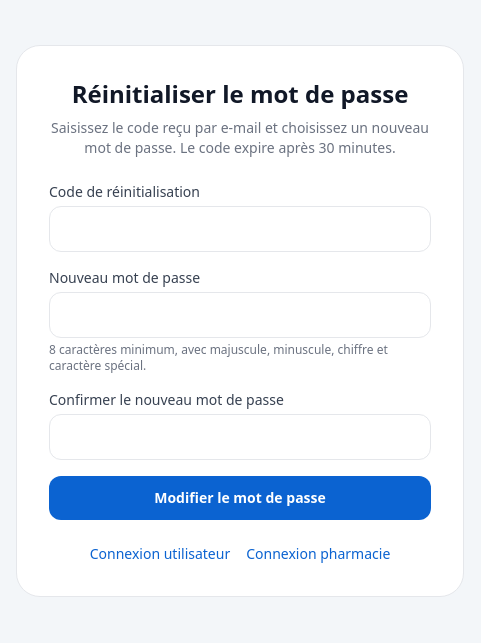
ResetPasswordPage › does not submit when the password confirmation differs
In the field labelled "Code de réinitialisation": (240, 229) [49,206,431,252], type "mail-reset-code"
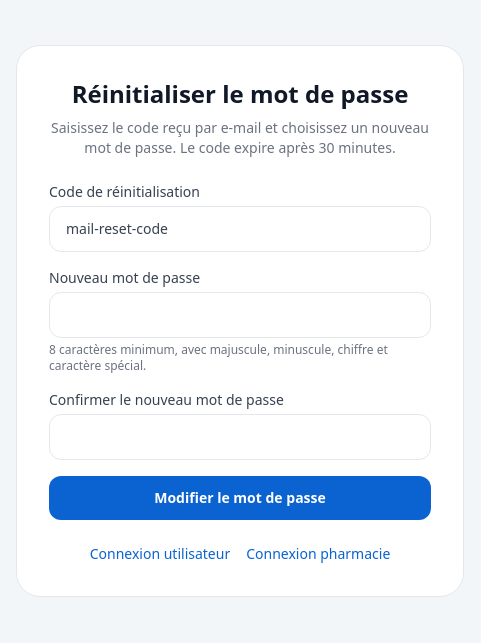
In the password field labelled "Nouveau mot de passe": (240, 315) [49,292,431,338], type "SecurePass123!"
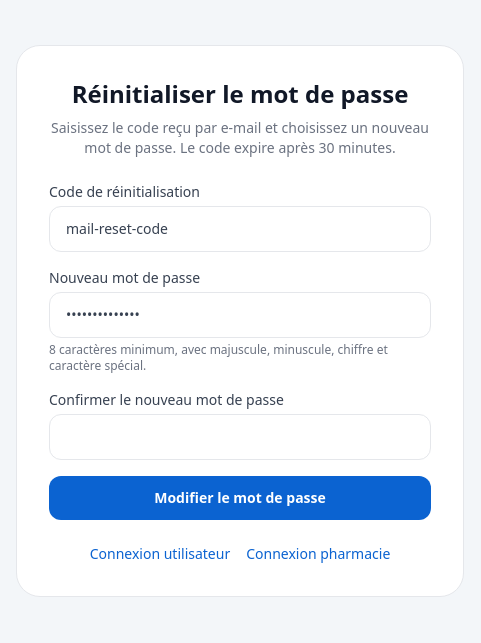
In the password field labelled "Confirmer le nouveau mot de passe": (240, 437) [49,414,431,460], type "OtherPass123!"
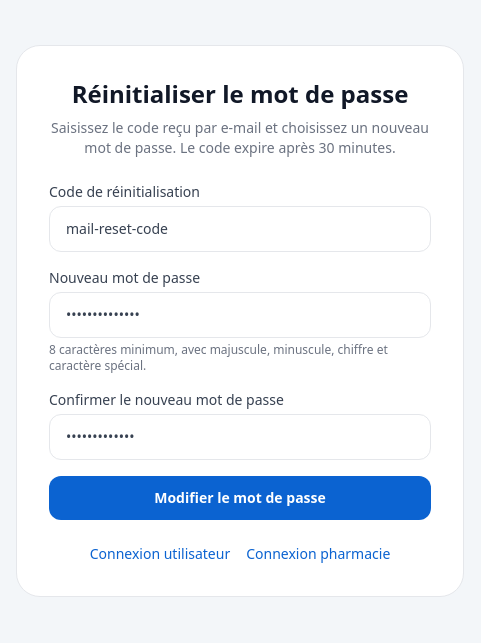
Submit the form named "Modifier le mot de passe", box [49,182,431,520]
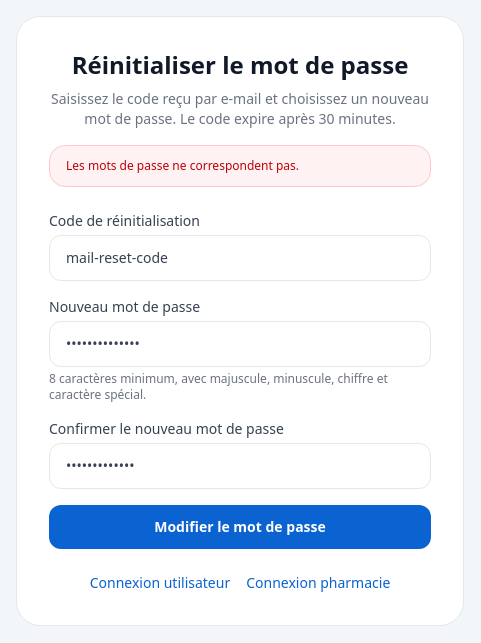
Check: the text "Les mots de passe ne correspondent pas." is shown, box [49,145,431,187]
